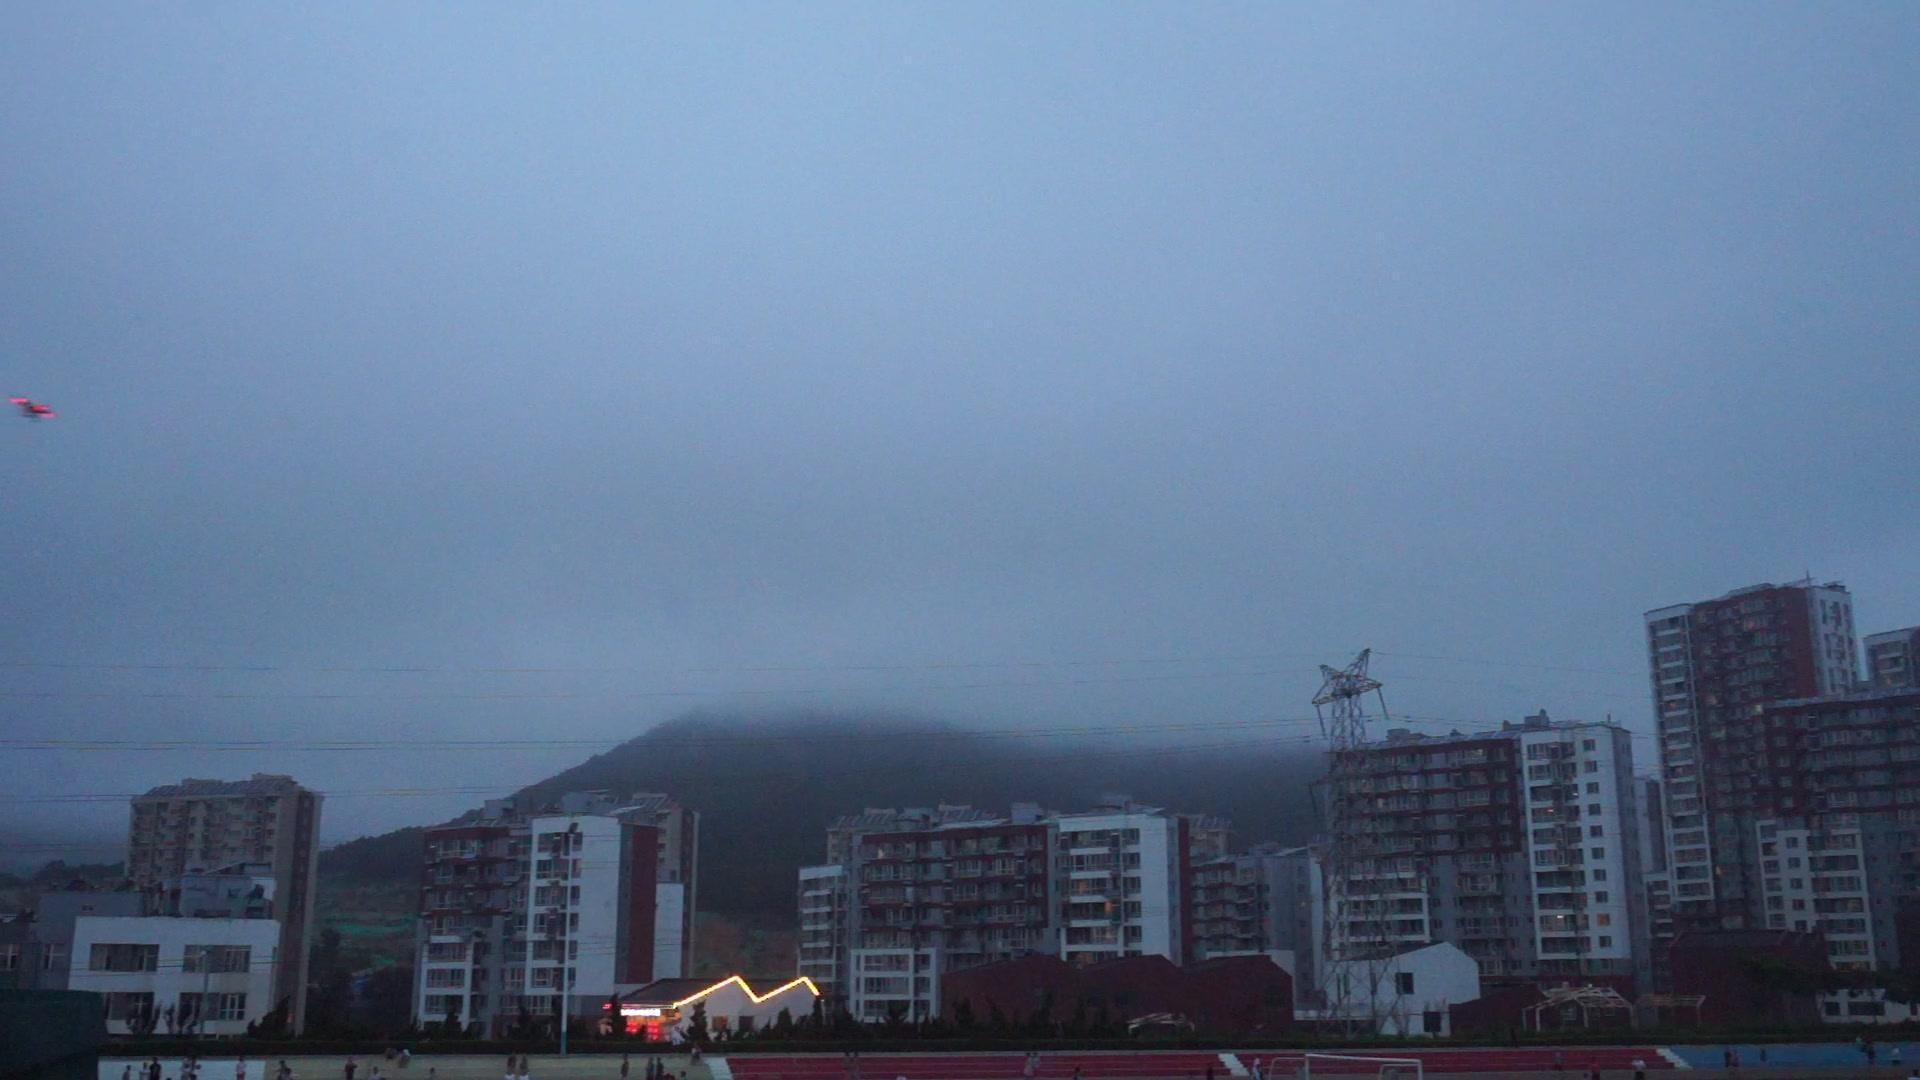UAV: (8, 398, 58, 419)
